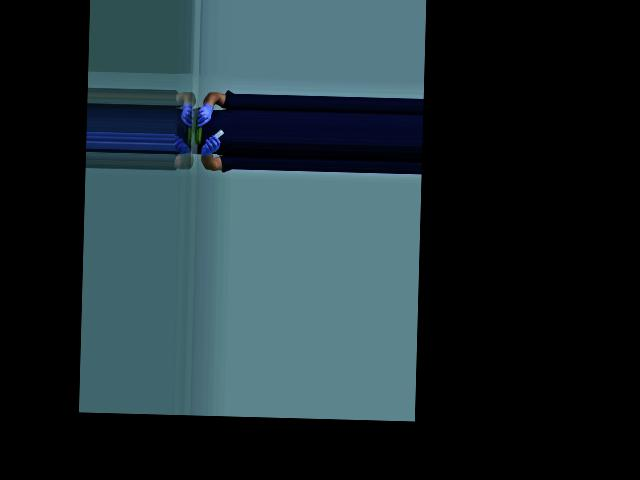cucumber: (194, 118, 202, 146)
